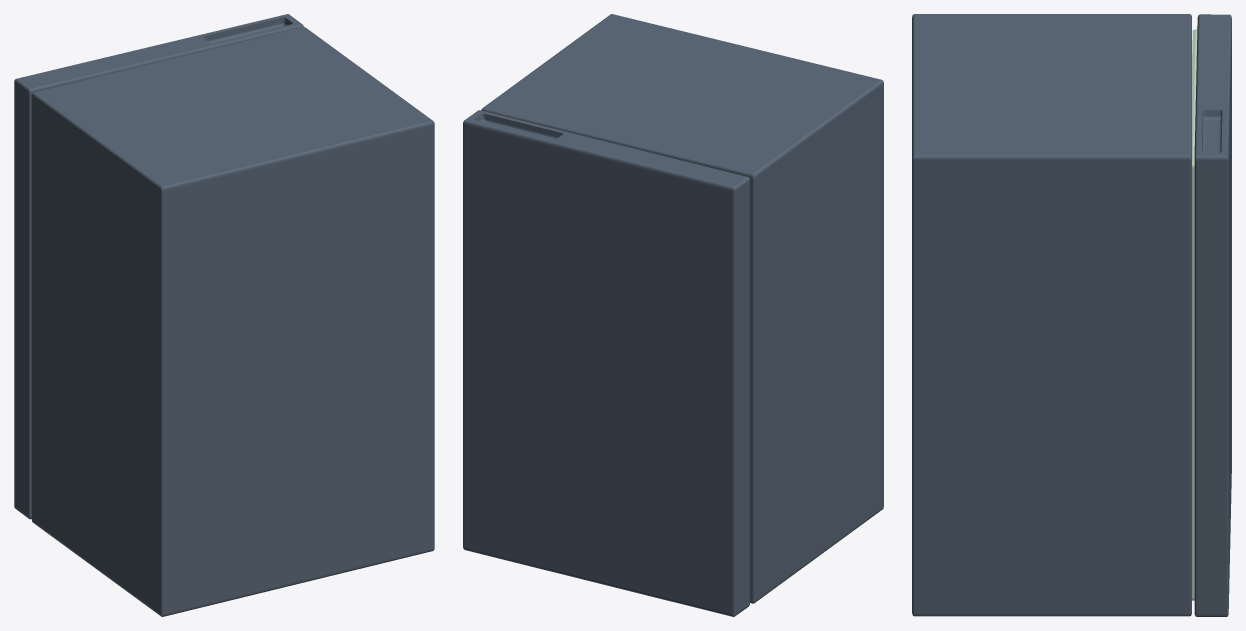
File: fridge.fbx
The picture shows the model from 3 angles, left to right: view 1: azimuth 30°, elevation 25°; view 2: azimuth 150°, elevation 25°; view 3: azimuth 270°, elevation 25°; orthographic projection. The views are drawn at different scales.
Parts seen in each view (by area): view 1: Cube.002, Cube.029; view 2: Cube.029, Cube.002; view 3: Cube.002, Cube.029.
Part boxes in pixels (bbox=[...]): Cube.002: bbox=[31, 26, 434, 616]; Cube.029: bbox=[14, 14, 303, 519]; Cube.029: bbox=[463, 110, 749, 616]; Cube.002: bbox=[481, 14, 883, 603]; Cube.002: bbox=[912, 14, 1191, 616]; Cube.029: bbox=[1192, 14, 1231, 616].
Bounding box in the file's own units: 65.08 × 98 × 61.1.
